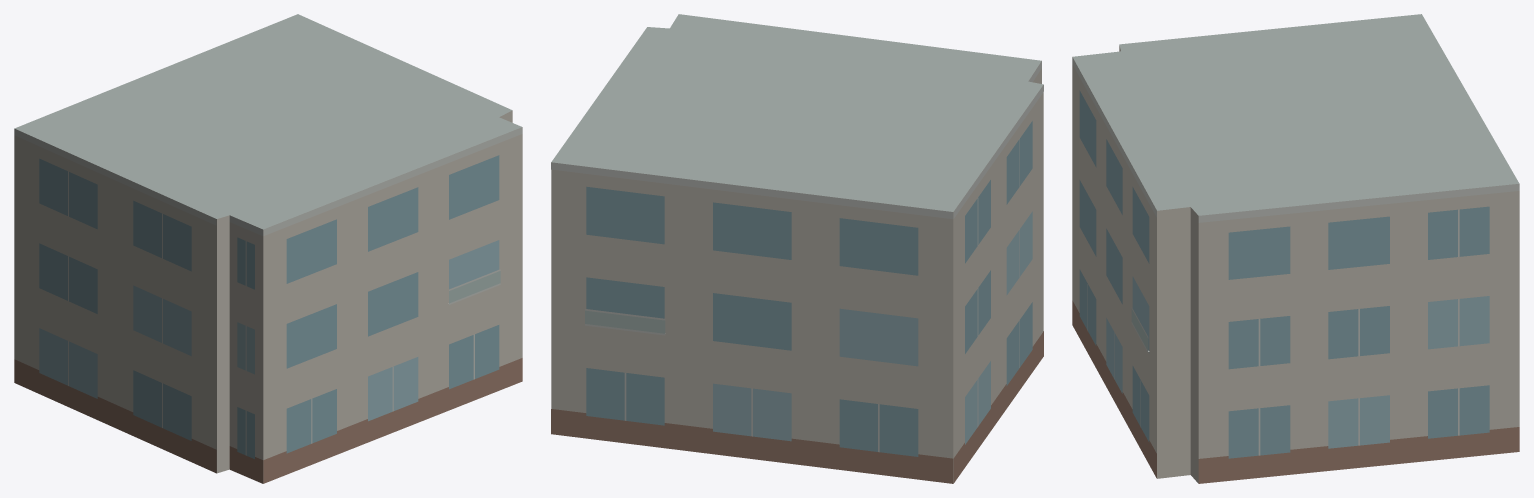
The model's file is survey-upis-32866448.glb.
3 renders of one model, left to right at view 1: azimuth 30°, elevation 25°; view 2: azimuth 150°, elevation 25°; view 3: azimuth 270°, elevation 25°, orthographic. The views are drawn at different scales.
Visible parts, largest first — view 1: survey-upis-32866448.tmp; view 2: survey-upis-32866448.tmp; view 3: survey-upis-32866448.tmp.
Part boxes in pixels (x1,y1,x2,y2): survey-upis-32866448.tmp: (14,14,522,483); survey-upis-32866448.tmp: (551,14,1043,483); survey-upis-32866448.tmp: (1072,14,1519,483).
Size of the model in its own units: 14.78 by 9.15 by 13.85.
